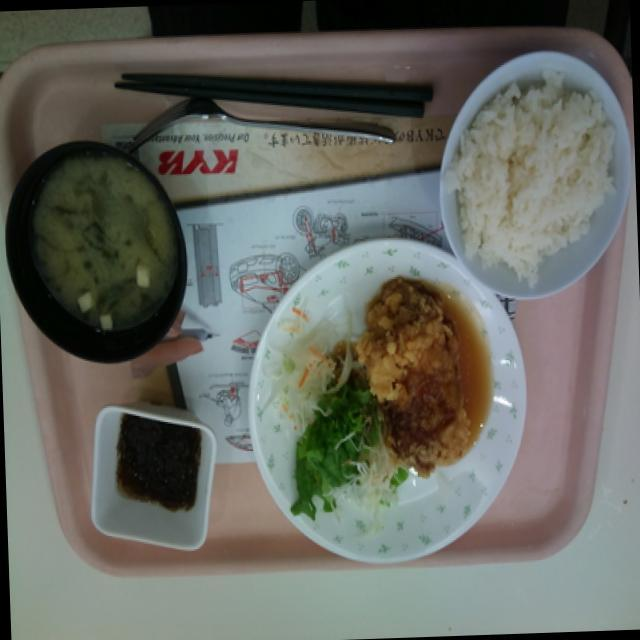Rice: (456, 86, 616, 276)
